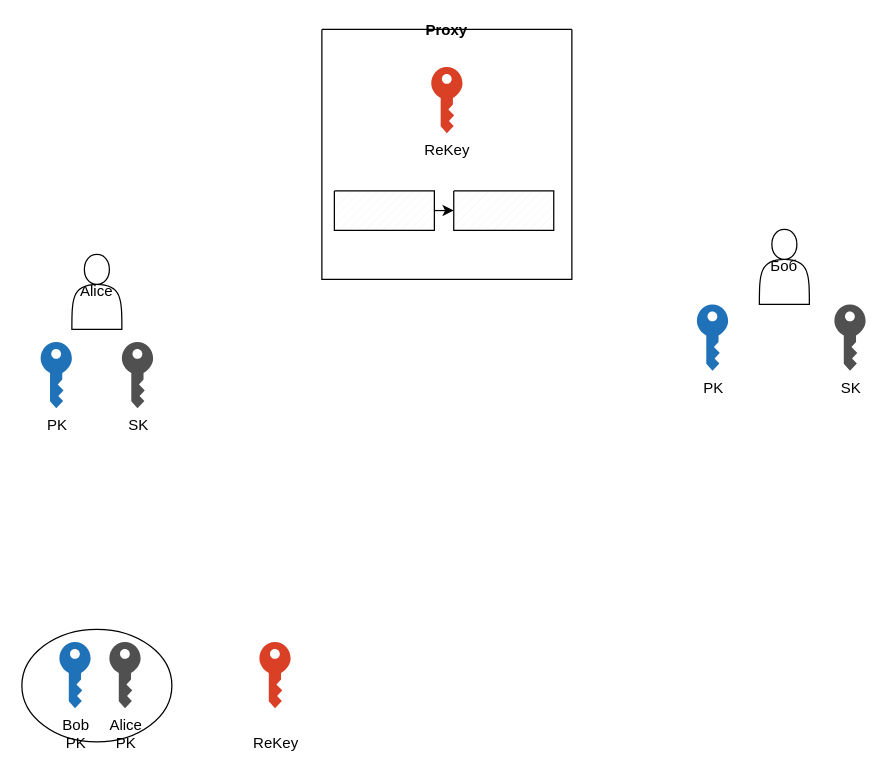
This 888x774 diagram has some shape labels left out. The shapes that lost their labels are listed below. From the top down, each one's centre as x and y in pixels, then its label:
pixel 383 210: cipher
pixel 503 210: re encrypted cipher
